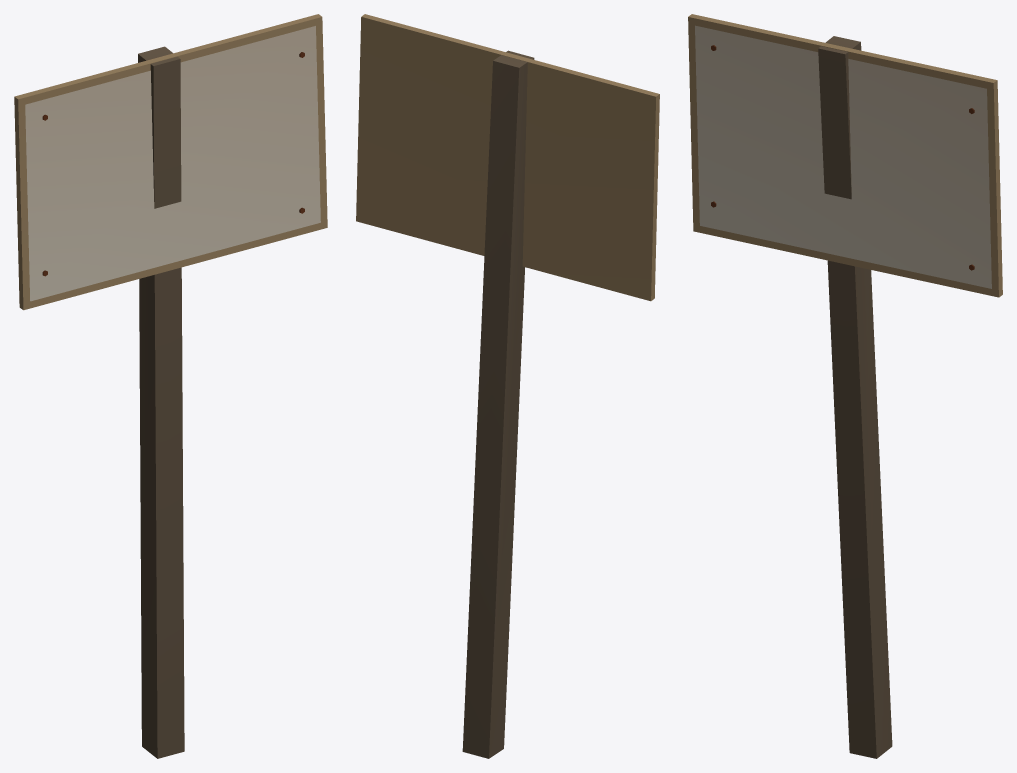
The model's file is pike_warning_sign.glb.
3 renders of one model, left to right at view 1: azimuth 30°, elevation 25°; view 2: azimuth 150°, elevation 25°; view 3: azimuth 330°, elevation 25°, orthographic. The views are drawn at different scales.
Parts seen in each view (by area): view 1: warning_sign_board_LOD0, warning_sign_post_LOD0; view 2: warning_sign_board_LOD0, warning_sign_post_LOD0; view 3: warning_sign_board_LOD0, warning_sign_post_LOD0.
Boxes of the visible parts, <box> form: warning_sign_board_LOD0: <box>14,14,327,310</box>; warning_sign_post_LOD0: <box>138,46,184,758</box>; warning_sign_board_LOD0: <box>356,14,659,301</box>; warning_sign_post_LOD0: <box>462,50,534,758</box>; warning_sign_board_LOD0: <box>688,14,1002,297</box>; warning_sign_post_LOD0: <box>818,36,892,758</box>.
Bounding box in the file's own units: 0.9154 × 2.01 × 0.1498.
